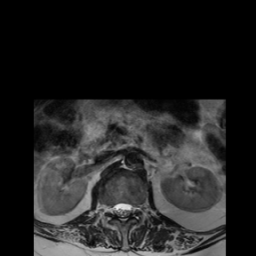CCS_normal: (120, 195, 126, 228)
LFS_normal: (132, 196, 138, 222)
LLS_normal: (126, 196, 133, 222)
RFS_normal: (106, 195, 112, 219)
RLS_normal: (112, 196, 120, 222)
